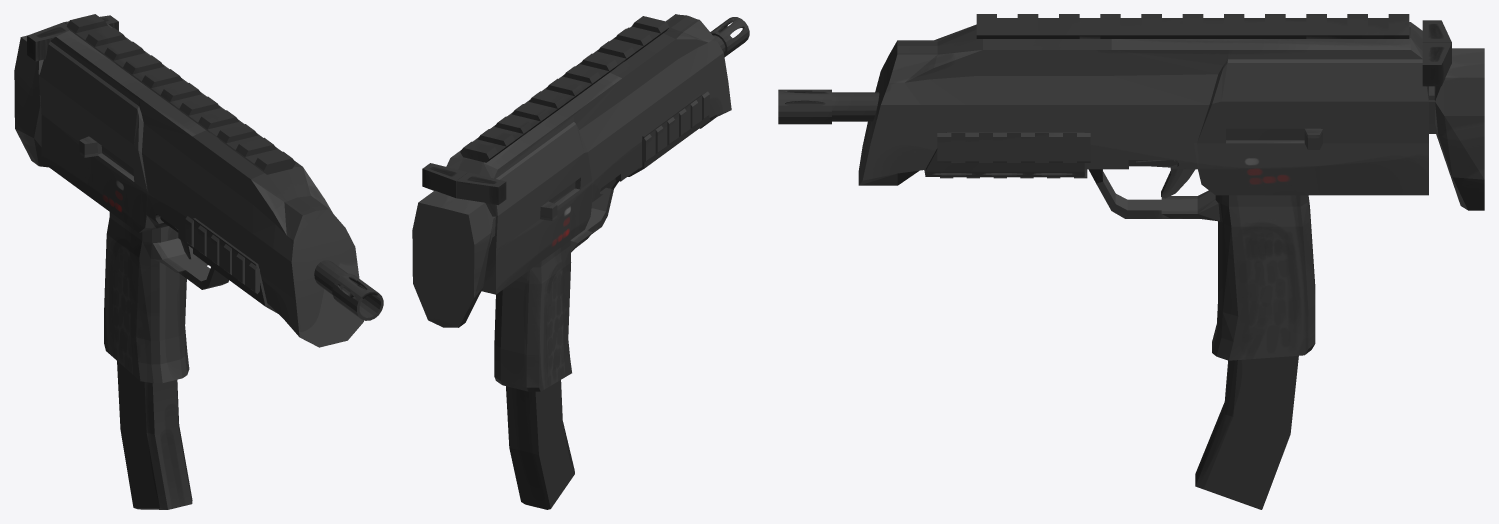
The picture shows the model from 3 angles, left to right: view 1: azimuth 30°, elevation 25°; view 2: azimuth 150°, elevation 25°; view 3: azimuth 270°, elevation 25°; orthographic projection. The views are drawn at different scales.
Parts seen in each view (by area): view 1: Box001, Object001; view 2: Box001, Object001; view 3: Box001, Object001.
Boxes of the visible parts, <box> form: Box001: <box>14,14,383,383</box>; Object001: <box>27,15,192,509</box>; Box001: <box>412,14,749,391</box>; Object001: <box>422,163,574,509</box>; Box001: <box>778,14,1484,360</box>; Object001: <box>1195,20,1451,509</box>.
Size of the model in its own units: 4.7 by 22.33 by 29.61.
